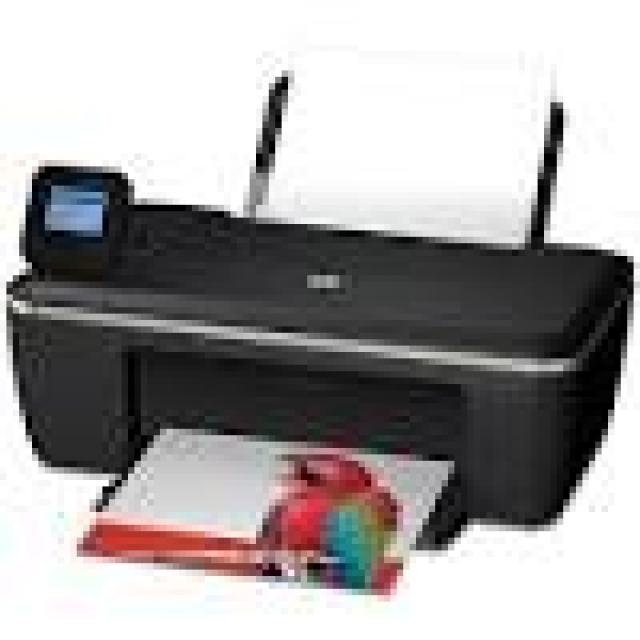printer: (7, 56, 640, 603)
